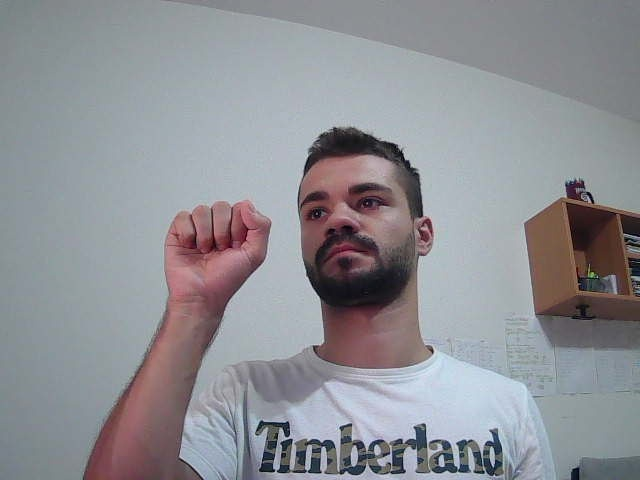a: (131, 198, 278, 441)
